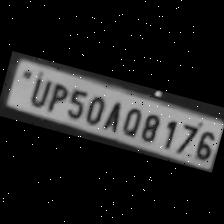0: (80, 90, 108, 128)
1: (155, 113, 180, 151)
5: (61, 83, 90, 121)
6: (190, 124, 220, 164)
7: (171, 118, 199, 158)
8: (136, 109, 164, 145)
A: (100, 95, 126, 133)
P: (42, 77, 70, 115)
Q: (116, 101, 144, 139)
U: (24, 71, 52, 109)
